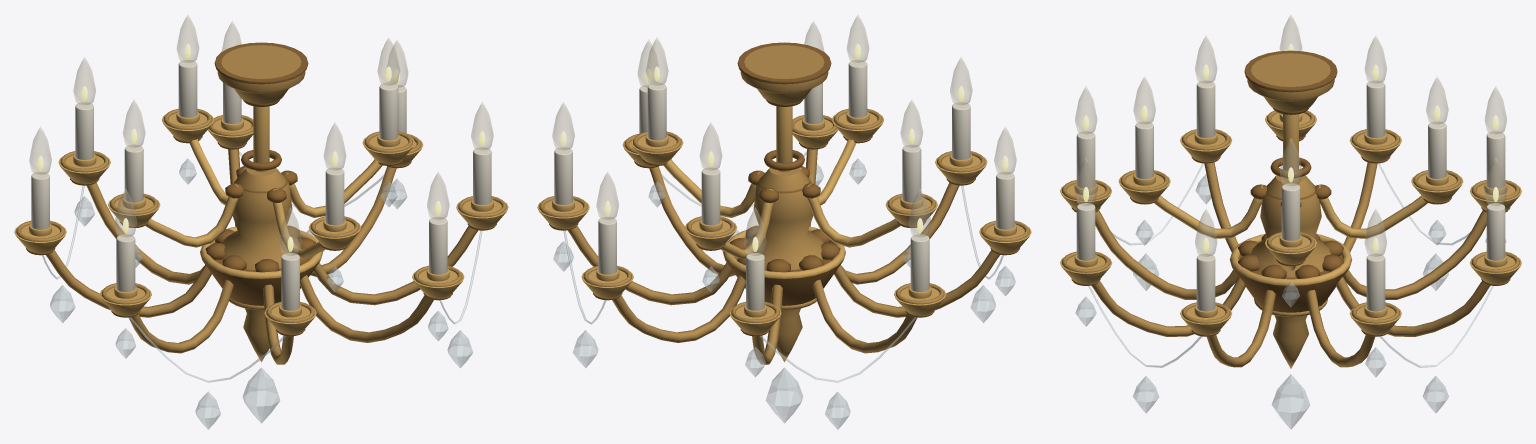
Rendered from ceiling_light_luxury_lod1.glb.
The picture shows the model from 3 angles, left to right: view 1: azimuth 30°, elevation 25°; view 2: azimuth 150°, elevation 25°; view 3: azimuth 270°, elevation 25°; orthographic projection.
Parts seen in each view (by area): view 1: BATCH_Root_AntiqueBrass.001, BATCH_Root_PolishedBrass_Accent.001, BATCH_Root_CandleSleeve_Ivory.001, BATCH_Root_CandleBulb_Clear.001, BATCH_Root_FacetedCrystal.001, BATCH_Root_AgedBrass_Recess.001, BATCH_Root_Emitter_2700K.001; view 2: BATCH_Root_AntiqueBrass.001, BATCH_Root_PolishedBrass_Accent.001, BATCH_Root_CandleSleeve_Ivory.001, BATCH_Root_CandleBulb_Clear.001, BATCH_Root_FacetedCrystal.001, BATCH_Root_AgedBrass_Recess.001, BATCH_Root_Emitter_2700K.001; view 3: BATCH_Root_AntiqueBrass.001, BATCH_Root_PolishedBrass_Accent.001, BATCH_Root_CandleSleeve_Ivory.001, BATCH_Root_CandleBulb_Clear.001, BATCH_Root_AgedBrass_Recess.001, BATCH_Root_FacetedCrystal.001, BATCH_Root_Emitter_2700K.001.
Part boxes in pixels (left/top/right/bottom): BATCH_Root_AntiqueBrass.001: left=16, top=45, right=506, bottom=364; BATCH_Root_PolishedBrass_Accent.001: left=14, top=87, right=508, bottom=334; BATCH_Root_CandleSleeve_Ivory.001: left=31, top=60, right=491, bottom=310; BATCH_Root_CandleBulb_Clear.001: left=29, top=15, right=493, bottom=256; BATCH_Root_FacetedCrystal.001: left=42, top=151, right=482, bottom=429; BATCH_Root_AgedBrass_Recess.001: left=26, top=42, right=496, bottom=336; BATCH_Root_Emitter_2700K.001: left=37, top=44, right=485, bottom=251; BATCH_Root_AntiqueBrass.001: left=539, top=45, right=1029, bottom=364; BATCH_Root_PolishedBrass_Accent.001: left=537, top=87, right=1031, bottom=334; BATCH_Root_CandleSleeve_Ivory.001: left=554, top=60, right=1014, bottom=310; BATCH_Root_CandleBulb_Clear.001: left=552, top=15, right=1016, bottom=256; BATCH_Root_FacetedCrystal.001: left=553, top=151, right=1015, bottom=429; BATCH_Root_AgedBrass_Recess.001: left=549, top=42, right=1019, bottom=336; BATCH_Root_Emitter_2700K.001: left=560, top=44, right=1008, bottom=251; BATCH_Root_AntiqueBrass.001: left=1062, top=53, right=1519, bottom=368; BATCH_Root_PolishedBrass_Accent.001: left=1060, top=95, right=1521, bottom=334; BATCH_Root_CandleSleeve_Ivory.001: left=1076, top=80, right=1505, bottom=311; BATCH_Root_CandleBulb_Clear.001: left=1075, top=15, right=1506, bottom=256; BATCH_Root_AgedBrass_Recess.001: left=1071, top=50, right=1510, bottom=336; BATCH_Root_FacetedCrystal.001: left=1075, top=163, right=1506, bottom=429; BATCH_Root_Emitter_2700K.001: left=1083, top=43, right=1498, bottom=252.
Size of what is drawn, in the model's own units: 1.53 by 1.32 by 1.53.
